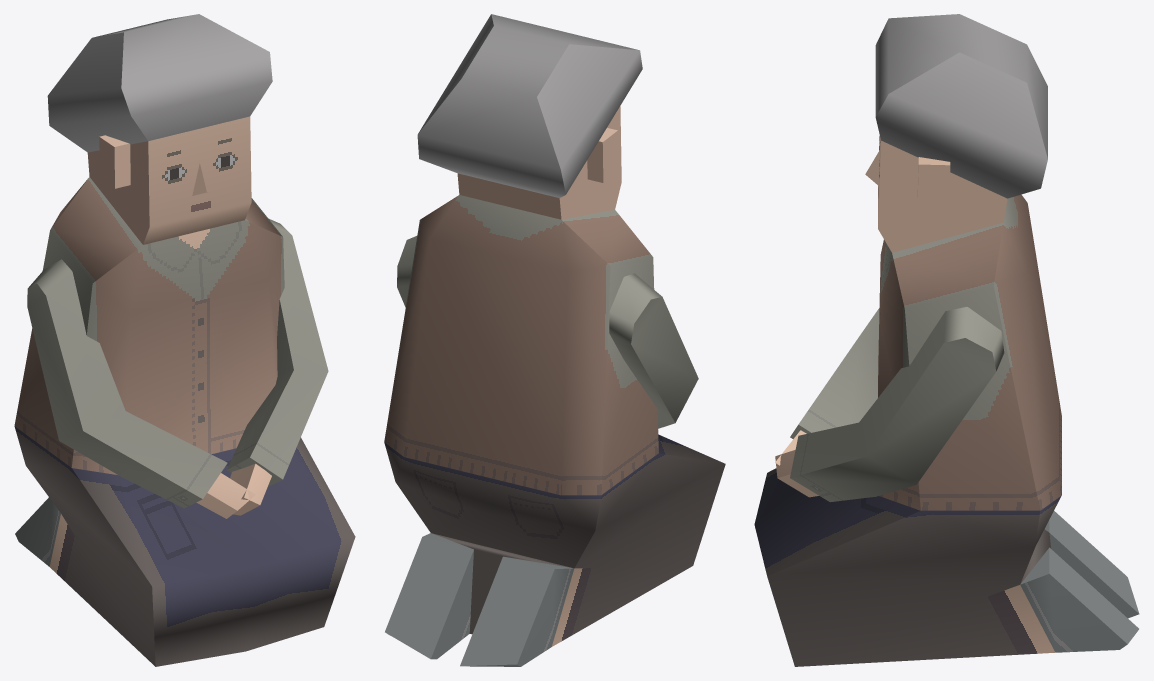
File: 022b_Grandma.glb
3 views of the same model, side by side, from view 1: azimuth 30°, elevation 25°; view 2: azimuth 150°, elevation 25°; view 3: azimuth 270°, elevation 25° (orthographic). The views are drawn at different scales.
Parts seen in each view (by area): view 1: part_0; view 2: part_0; view 3: part_0.
Part boxes in pixels (x1=…): part_0: x1=14, y1=14, x2=355, y2=666; part_0: x1=384, y1=14, x2=725, y2=666; part_0: x1=754, y1=14, x2=1139, y2=666.
Size of the model in its own units: 0.4661 by 1.03 by 0.6046.
Materials: 1 (1 with a texture image).
